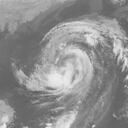cyclone: (14, 23, 94, 101)
